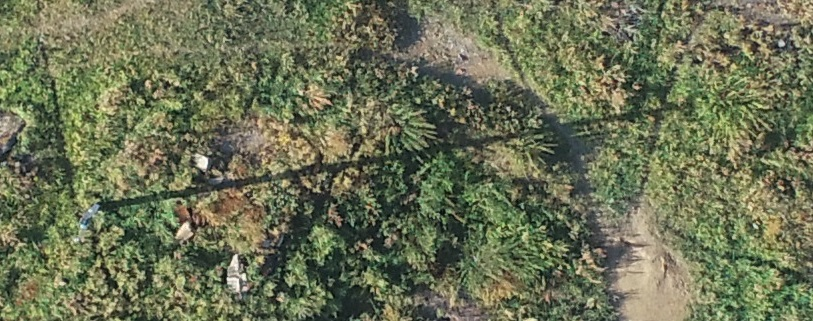opora: (79, 191, 179, 230)
